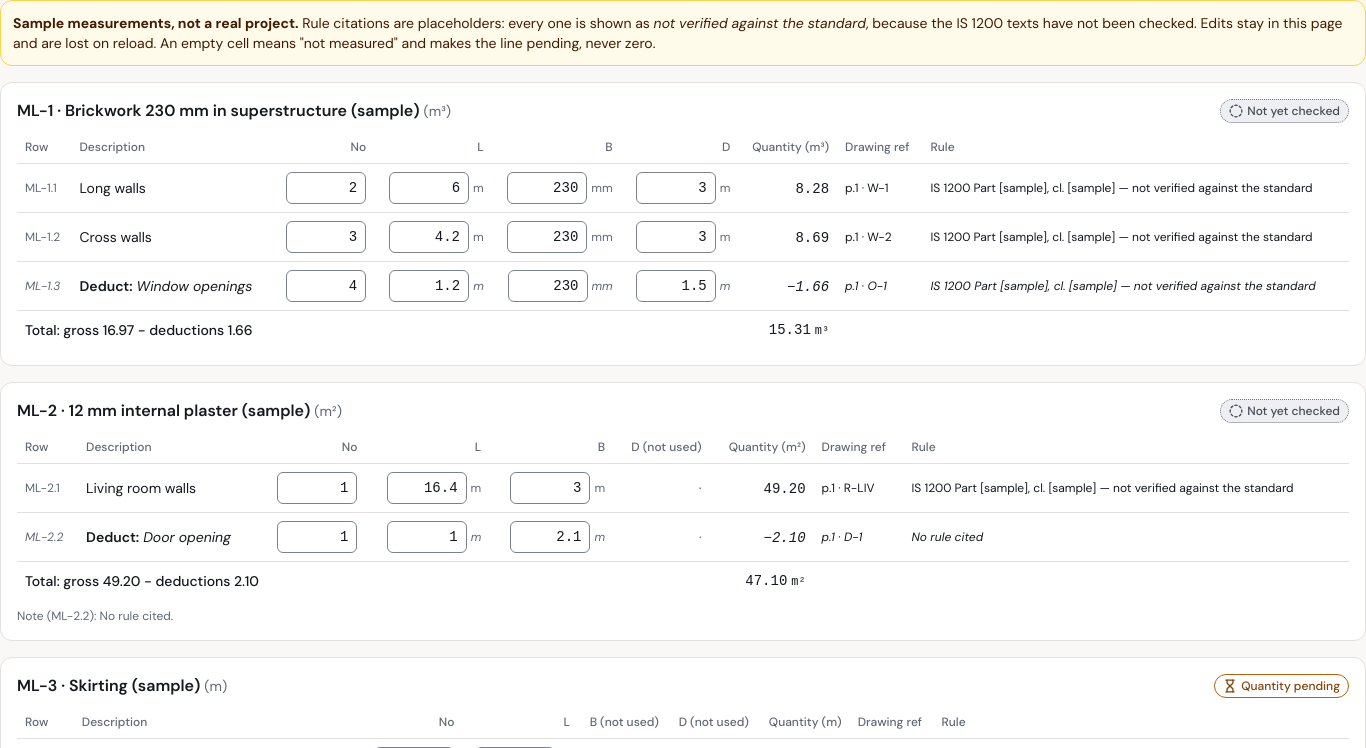
Test: MeasurementSheet — keyboard editing (local demo state only) › Escape restores the previous value
Replace the text in the field named "Long walls: L (m)" with "9" at (429, 188), box [389,172,469,204]
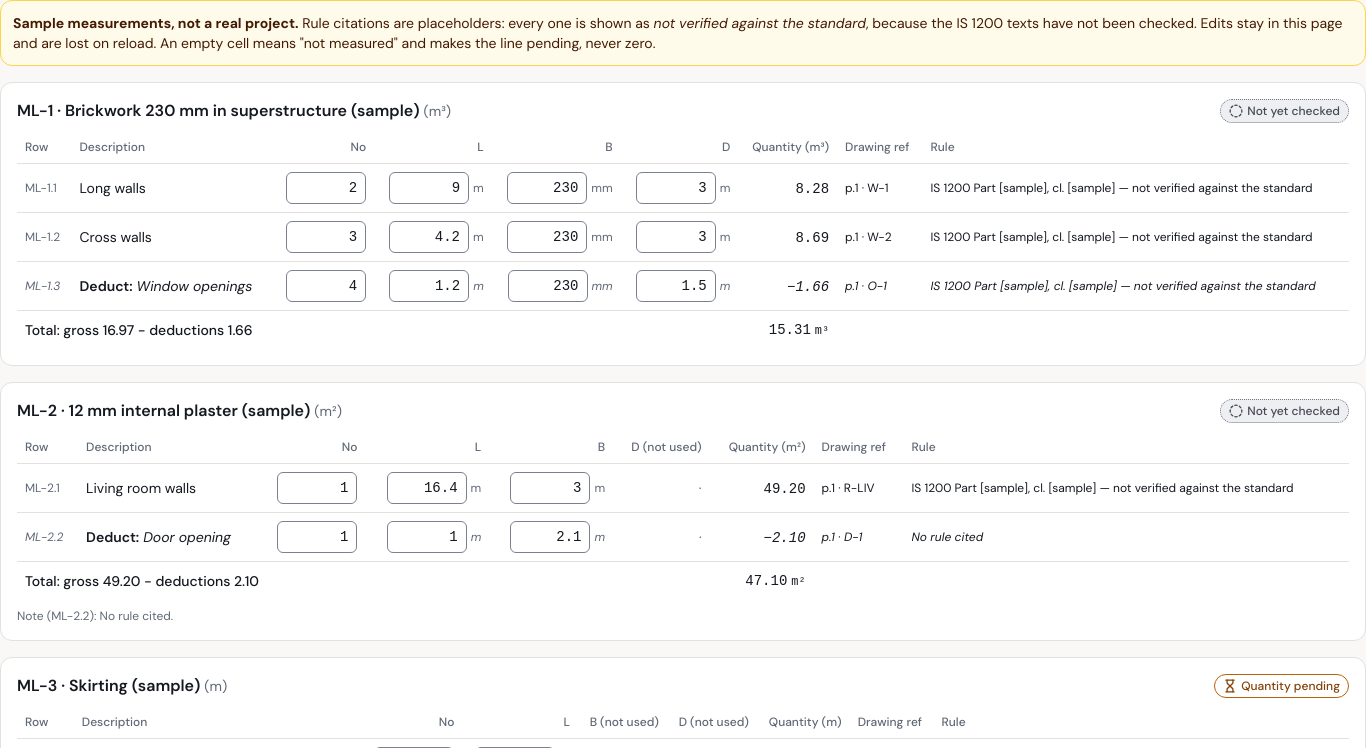
Press Escape in the field named "Long walls: L (m)", box [389,172,469,204]
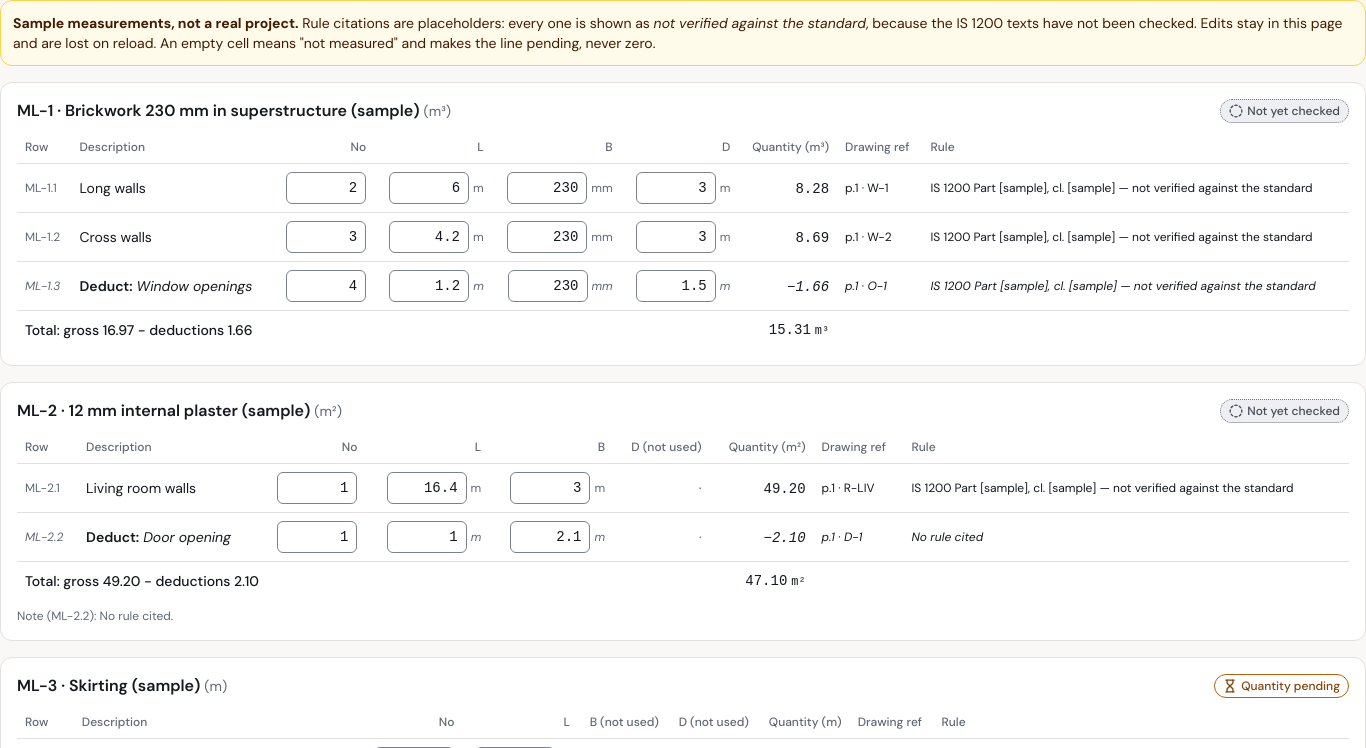
Expected: the field named "Long walls: L (m)" holds "6", [389,172,469,204]
